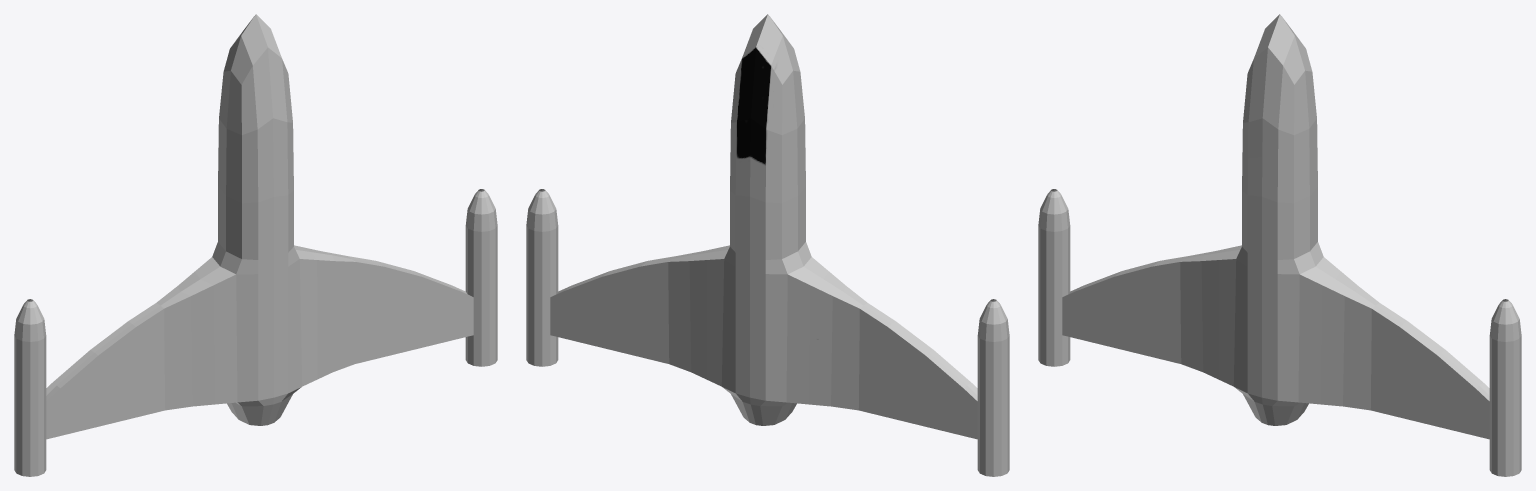
File: player.fbx
3 renders of one model, left to right at view 1: azimuth 30°, elevation 25°; view 2: azimuth 150°, elevation 25°; view 3: azimuth 330°, elevation 25°, orthographic.
Parts seen in each view (by area): view 1: Player_Mesh; view 2: Player_Mesh; view 3: Player_Mesh.
Boxes of the visible parts, bbox=[...] form: Player_Mesh: bbox=[14, 14, 497, 476]; Player_Mesh: bbox=[526, 14, 1009, 476]; Player_Mesh: bbox=[1038, 14, 1521, 476].
Size of the model in its own units: 184 by 149 by 24.
